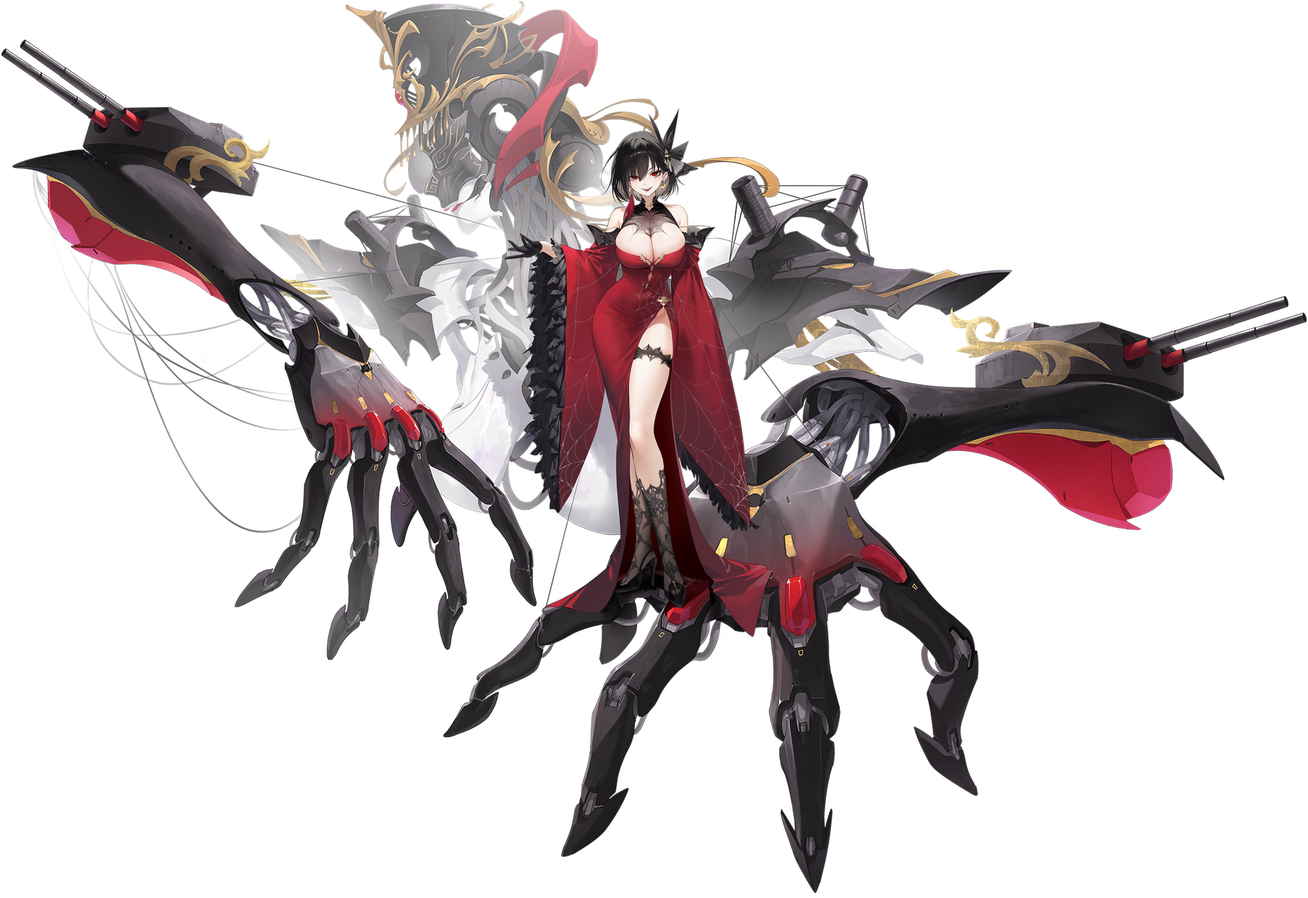person: (462, 86, 1038, 897)
